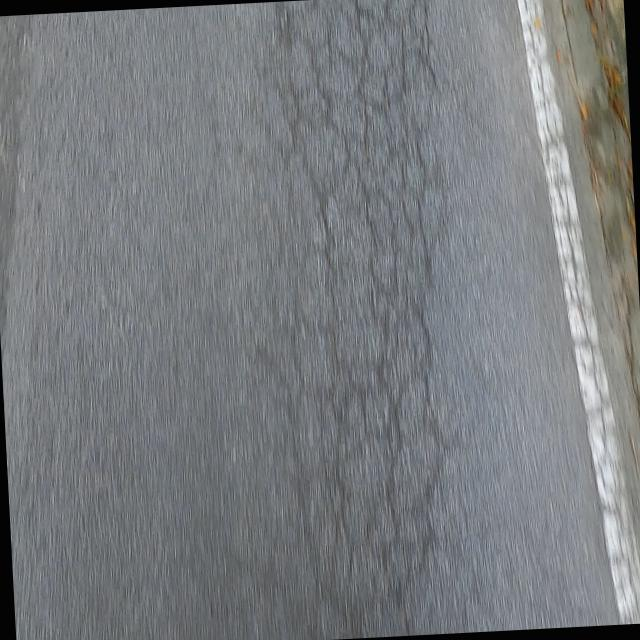Retak-Buaya: (265, 0, 444, 636)
